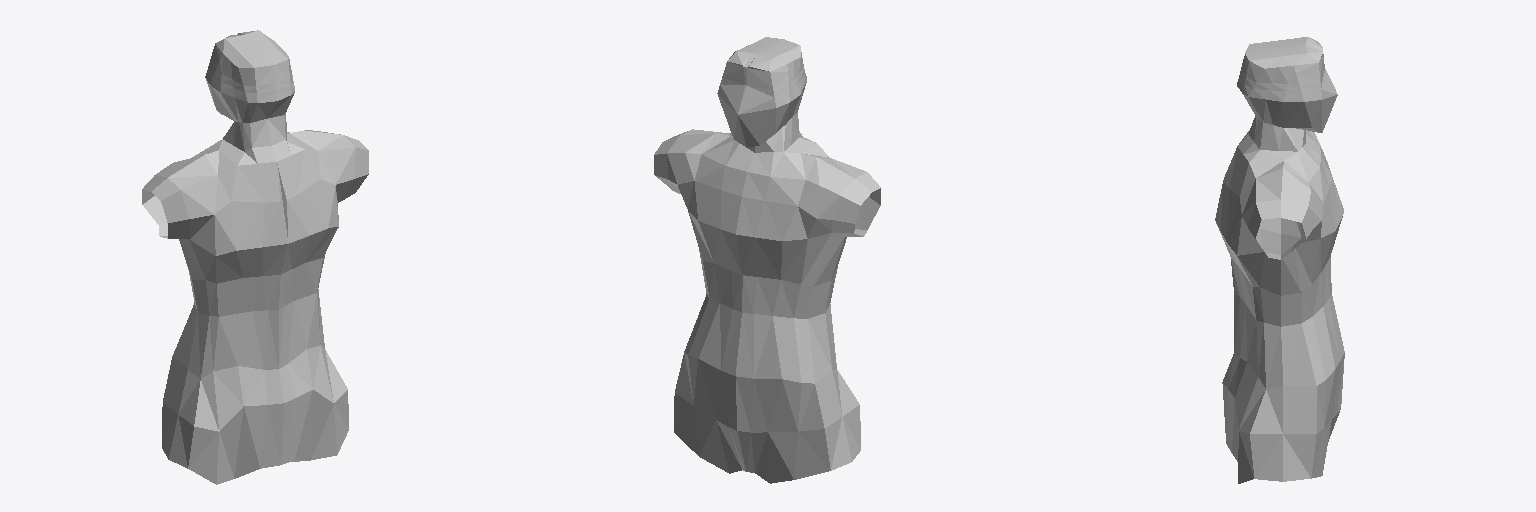
The model's file is torso.obj.
The picture shows the model from 3 angles: view 1: azimuth 30°, elevation 25°; view 2: azimuth 150°, elevation 25°; view 3: azimuth 270°, elevation 25°; orthographic projection.
Parts seen in each view (by area): view 1: torso_Cube; view 2: torso_Cube; view 3: torso_Cube.
Boxes of the visible parts, <box> form: torso_Cube: <box>142,30,368,484</box>; torso_Cube: <box>654,37,880,483</box>; torso_Cube: <box>1215,37,1344,483</box>.
Size of the model in its own units: 1.37 by 2.64 by 0.7352.